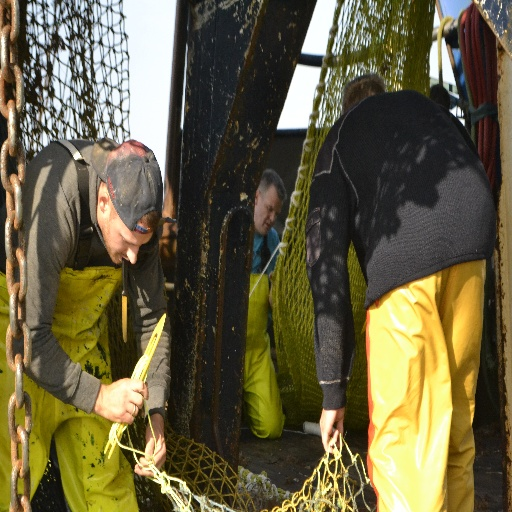hand: (91, 377, 140, 433), (133, 420, 168, 479), (319, 406, 345, 457), (267, 271, 277, 285)
